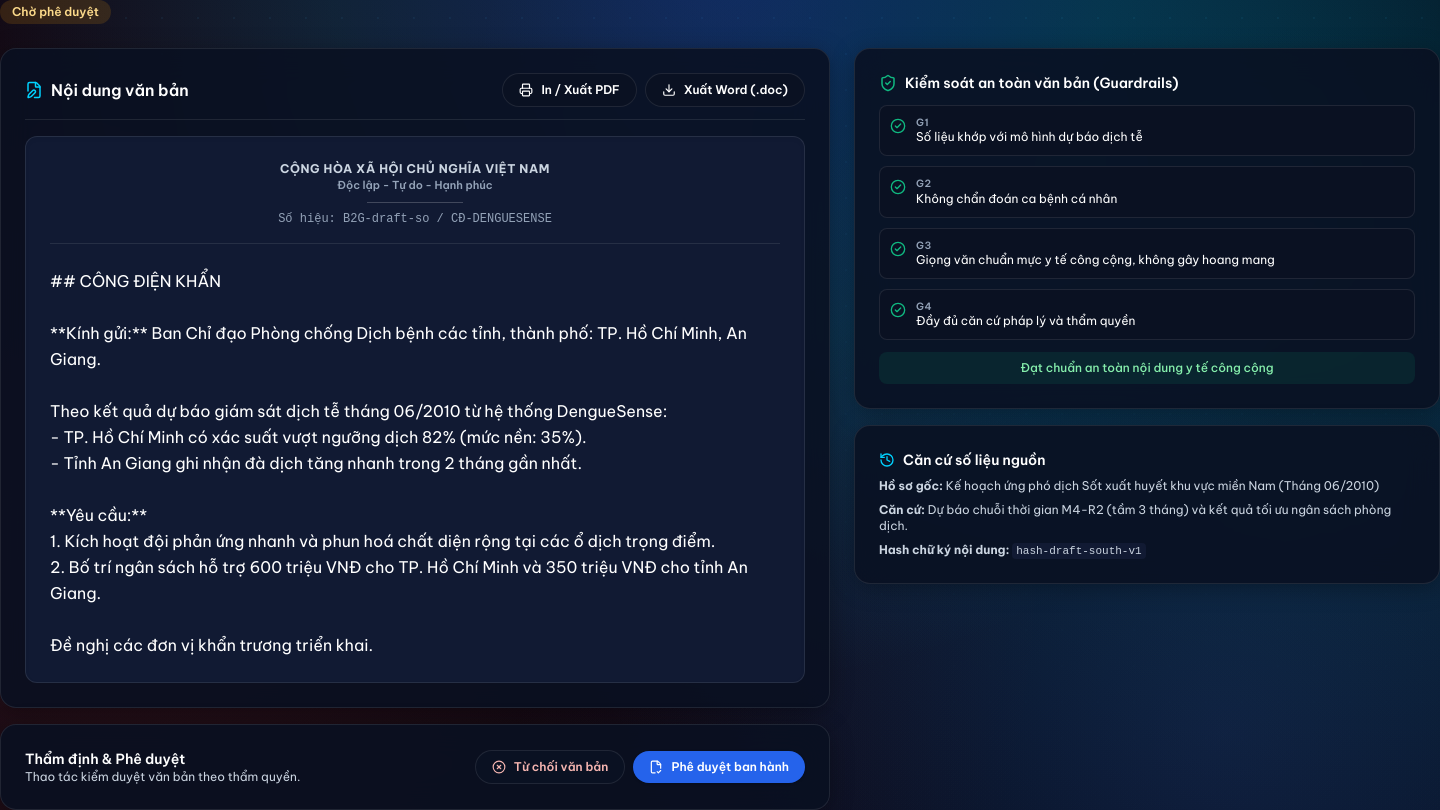
Test: DraftPage (S9 Dự thảo & Phê duyệt, S10 Lệnh điều phối) › lãnh đạo từ chối văn bản bắt buộc phải nhập lý do
The width and height of the screenshot is (1440, 810).
(page scrolled)
Click the button "Từ chối văn bản" at coordinates (550, 766), box [475,750,625,784]
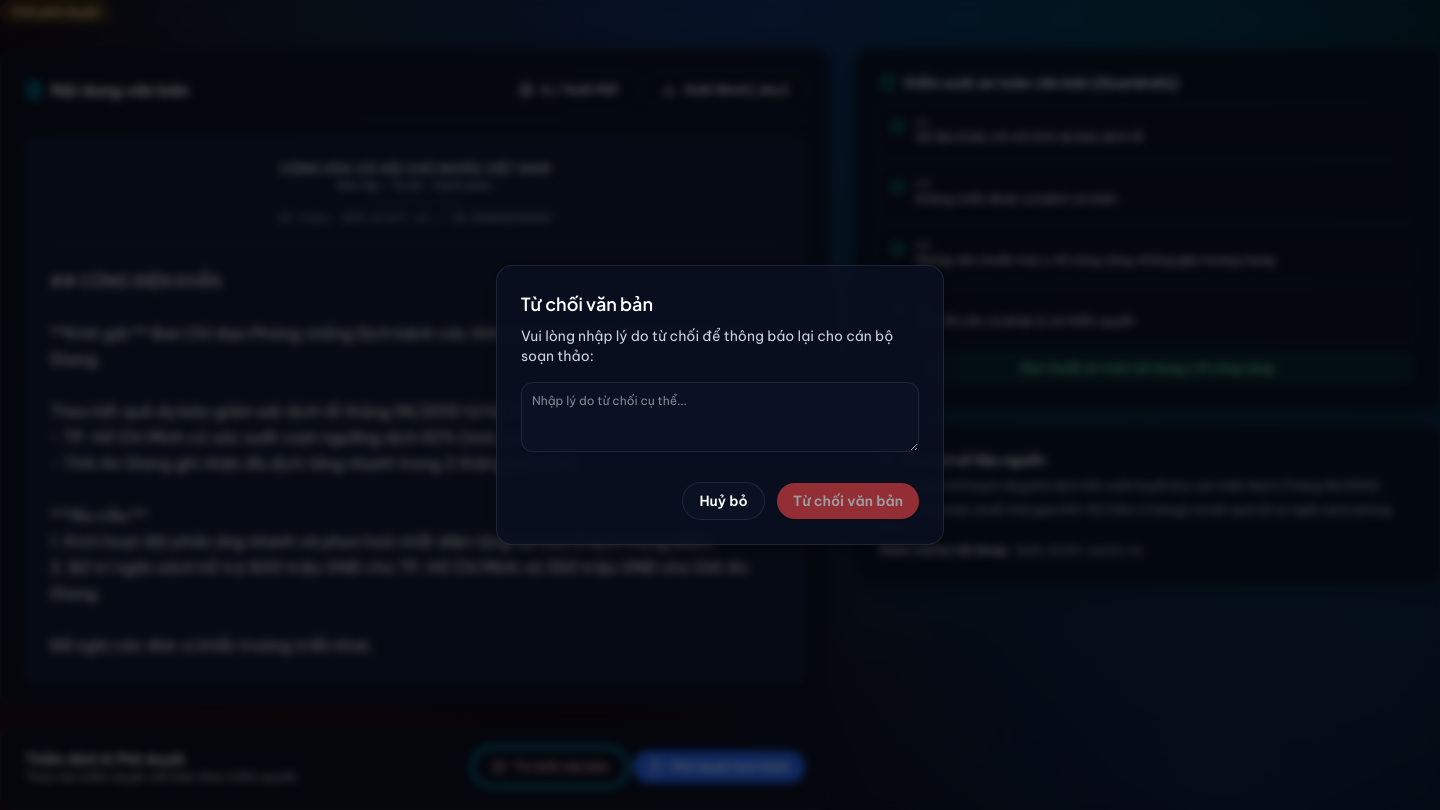
Now the heading "Từ chối văn bản" is shown, box [521,292,653,315]
Now the button "Từ chối văn bản" is disabled, box [777,483,919,519]
Note: Nhập lý do từ chối
Type "Cần bổ sung chi tiết kế hoạch hỗ trợ nhân lực tuyến cơ sở." into the text box with placeholder "Nhập lý do từ chối cụ thể..." at coordinates (720, 417), box [521,382,919,452]
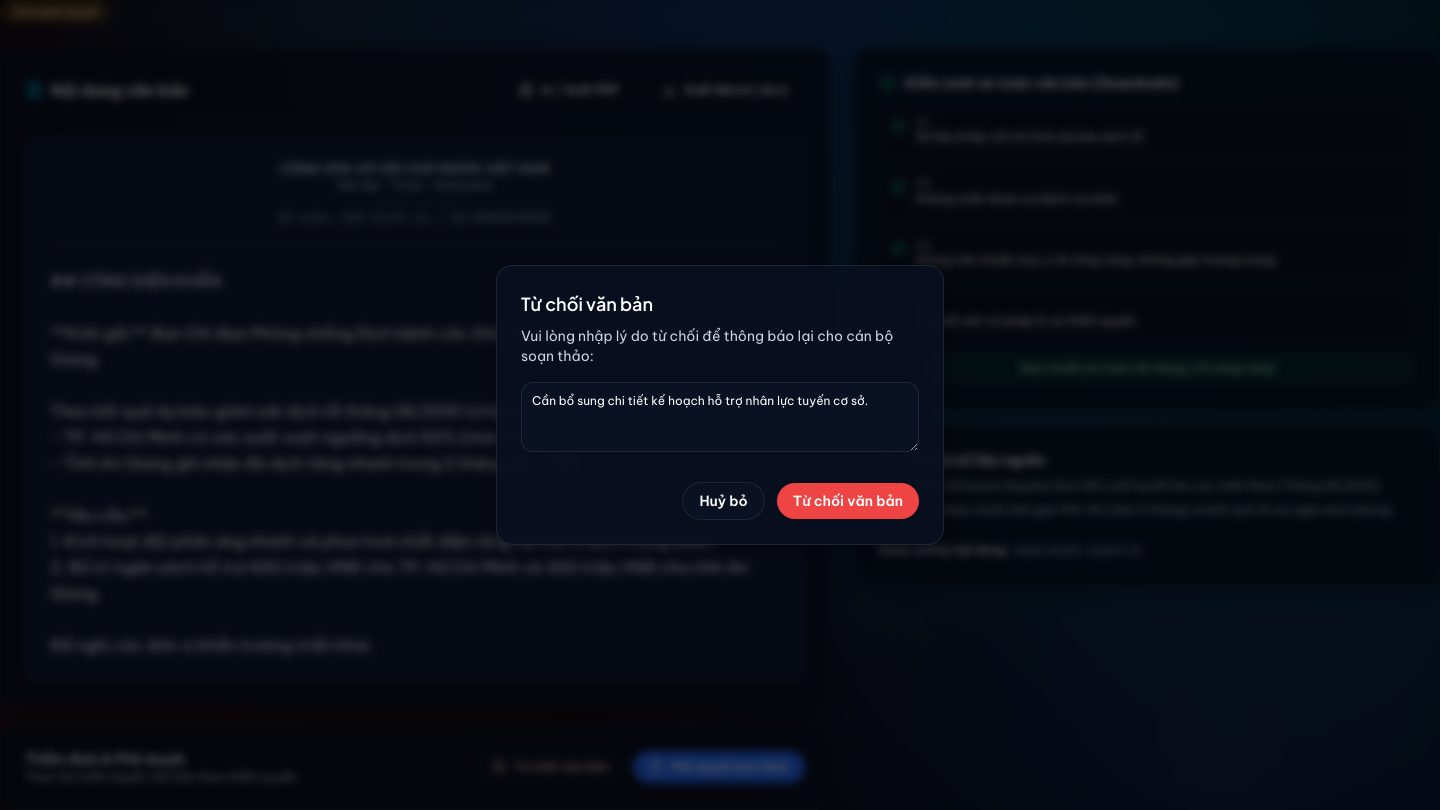
Now the button "Từ chối văn bản" is enabled
Click the button "Từ chối văn bản" at coordinates (848, 501), box [777,483,919,519]
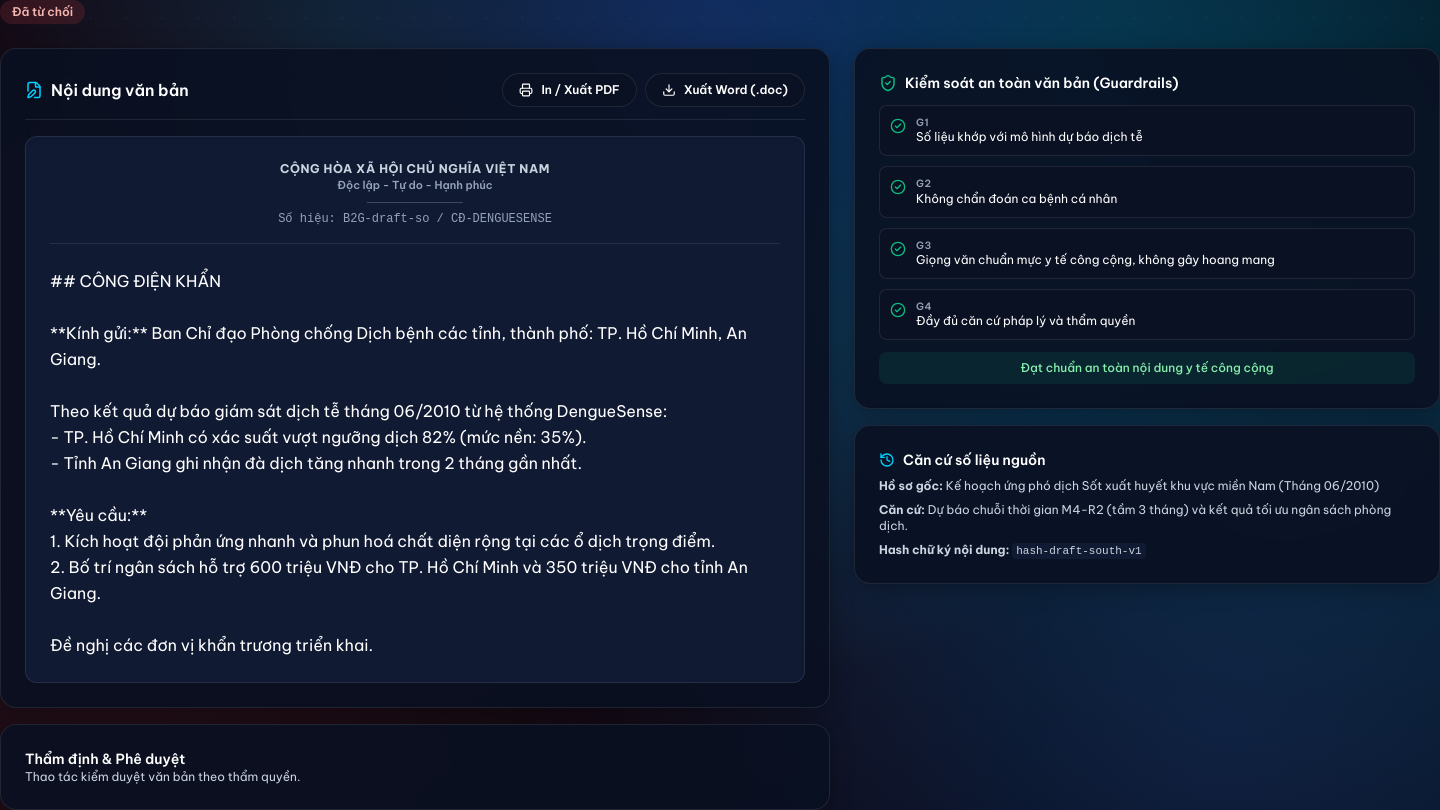
Now the dialog is gone
